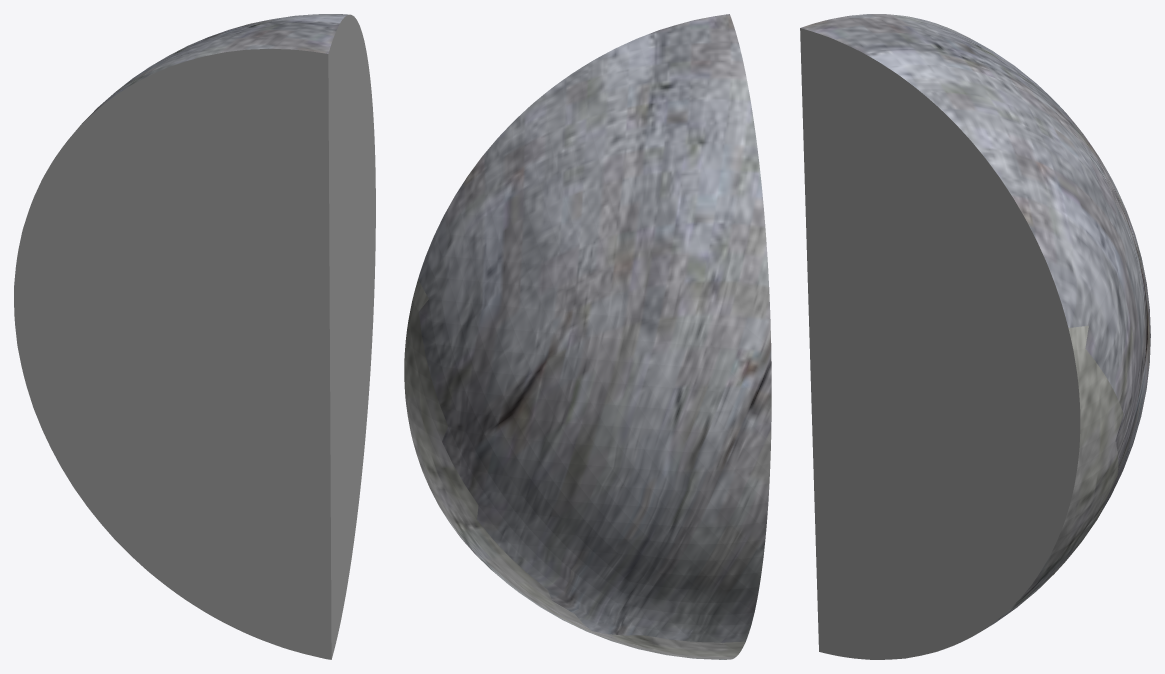
Rendered from sliced_ball3.obj.
3 renders of one model, left to right at view 1: azimuth 30°, elevation 25°; view 2: azimuth 150°, elevation 25°; view 3: azimuth 270°, elevation 25°, orthographic.
Parts seen in each view (by area): view 1: Object.1; view 2: Object.1; view 3: Object.1.
Part boxes in pixels (x1,y1,x2,y2): Object.1: (14, 14, 375, 659); Object.1: (404, 14, 771, 659); Object.1: (800, 14, 1150, 659).
Bounding box in the file's own units: 0.6194 × 0.9992 × 0.5139.
